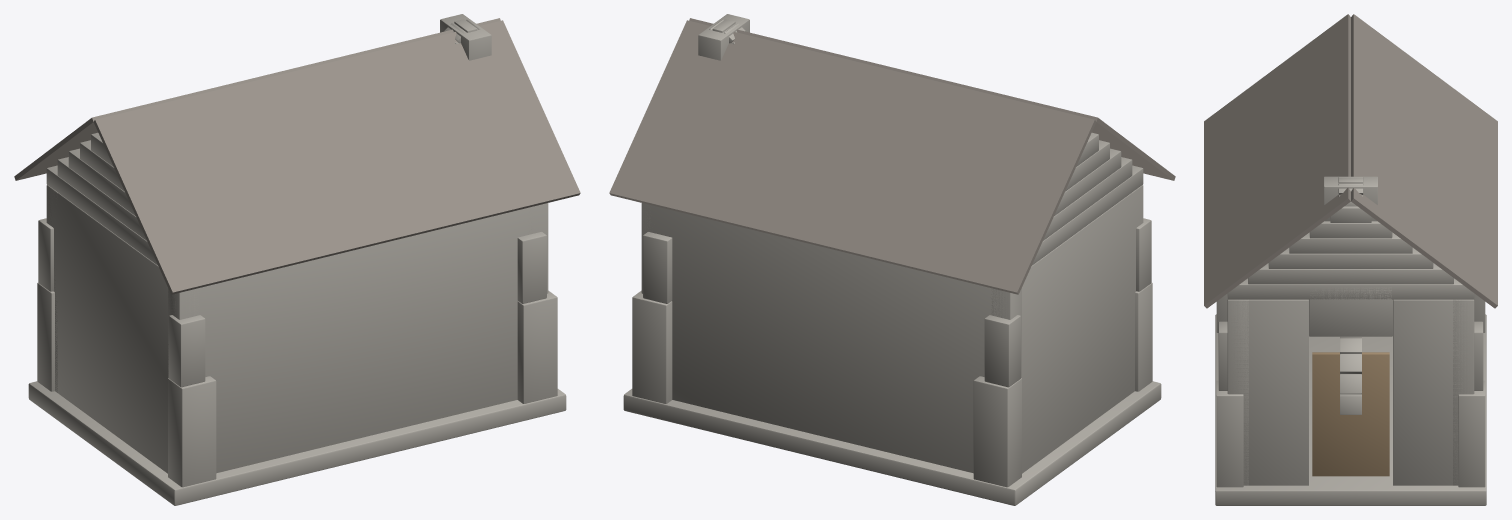
Rendered from chapel.glb.
The picture shows the model from 3 angles, left to right: view 1: azimuth 30°, elevation 25°; view 2: azimuth 150°, elevation 25°; view 3: azimuth 270°, elevation 25°; orthographic projection. The views are drawn at different scales.
Parts seen in each view (by area): view 1: chapel; view 2: chapel; view 3: chapel.
Boxes of the visible parts, x1=… form: chapel: x1=14, y1=14, x2=580, y2=505; chapel: x1=609, y1=14, x2=1175, y2=505; chapel: x1=1204, y1=14, x2=1497, y2=505.
Bounding box in the file's own units: 9.48 × 7.03 × 5.95.
